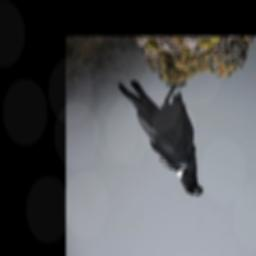Crow: (115, 74, 204, 202)
